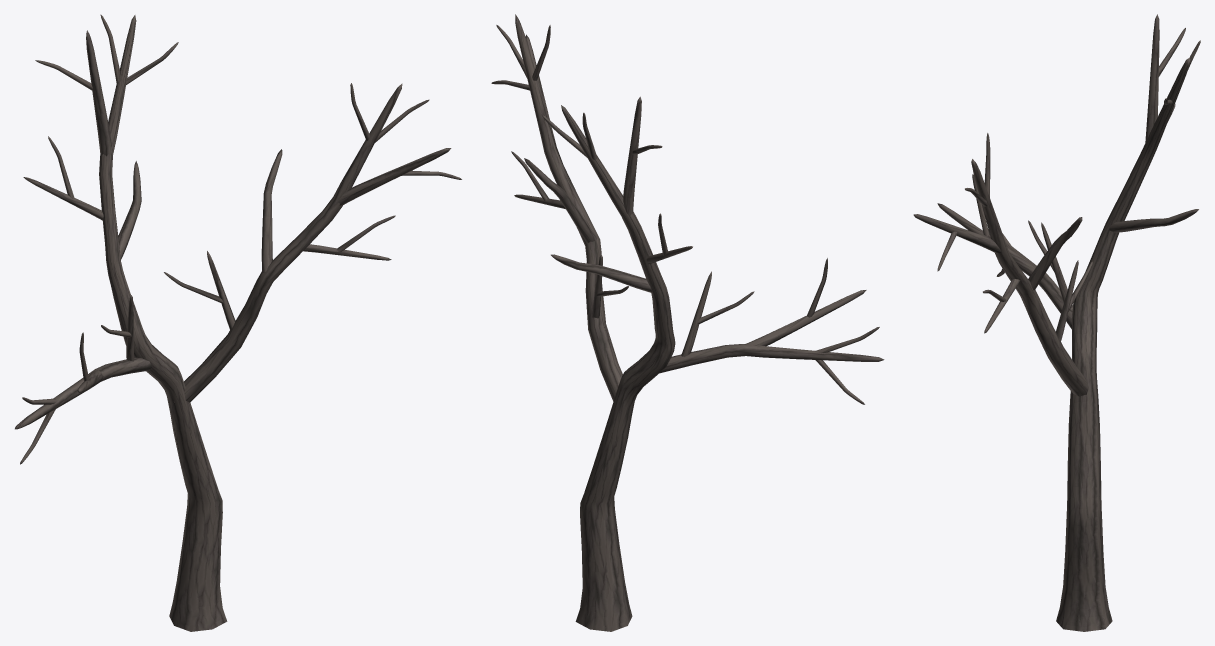
Rendered from DeadTree_10.glb.
3 views of the same model, side by side, from view 1: azimuth 30°, elevation 25°; view 2: azimuth 150°, elevation 25°; view 3: azimuth 270°, elevation 25° (orthographic). The views are drawn at different scales.
Parts seen in each view (by area): view 1: DeadTree_10; view 2: DeadTree_10; view 3: DeadTree_10.
Boxes of the visible parts, <box> form: DeadTree_10: <box>15,14,461,631</box>; DeadTree_10: <box>491,14,884,631</box>; DeadTree_10: <box>913,14,1200,631</box>.
Size of the model in its own units: 5.46 by 7.13 by 3.24.
1 material, 1 textured.
